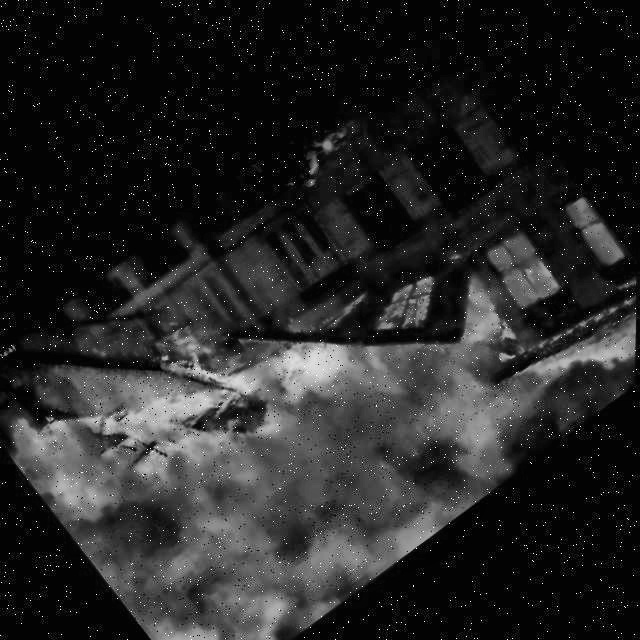Fire: (224, 200, 589, 583), (0, 278, 382, 640), (537, 259, 637, 416), (477, 212, 570, 314), (556, 176, 634, 263)
